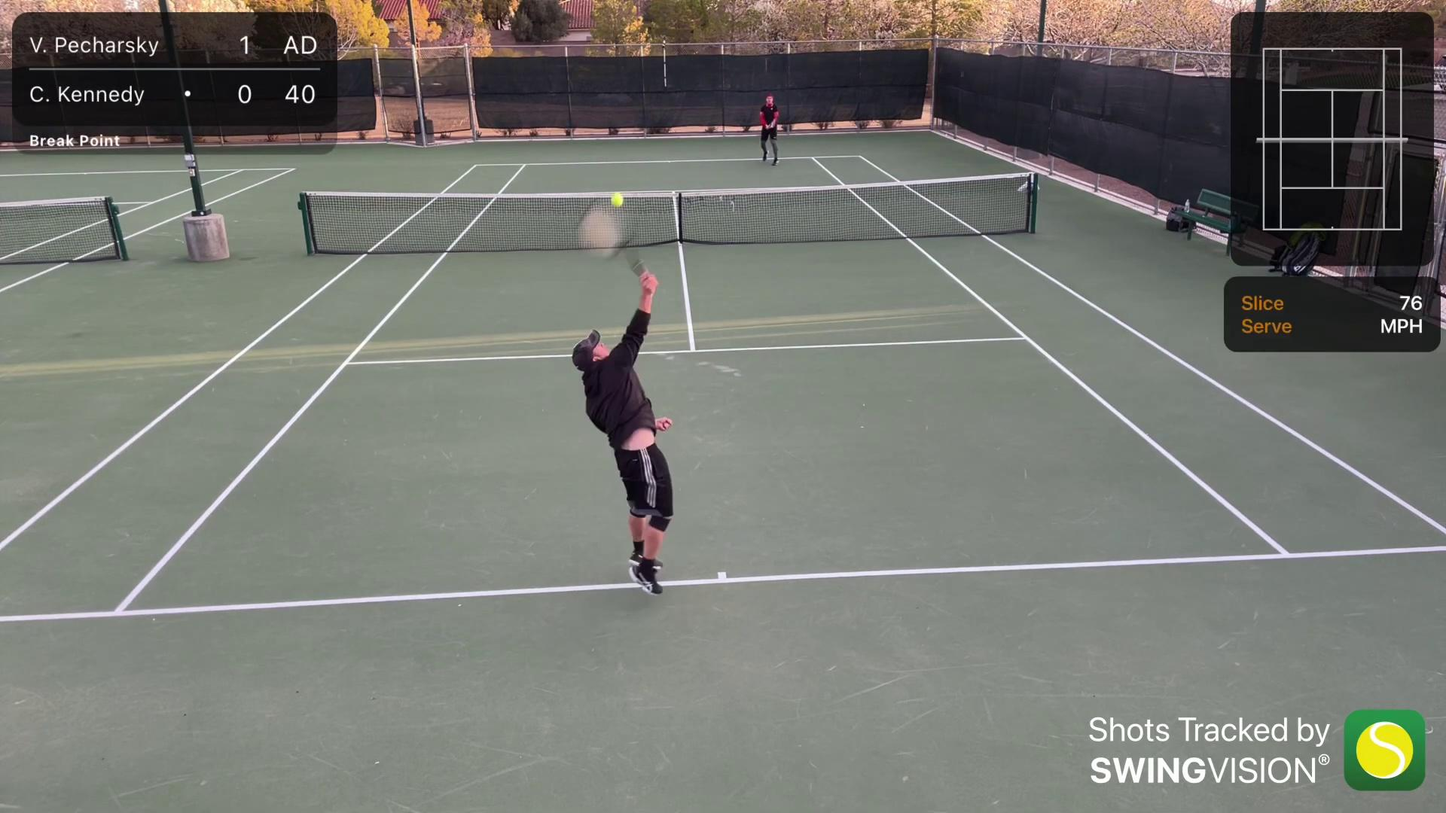ball: (608, 190, 628, 209)
